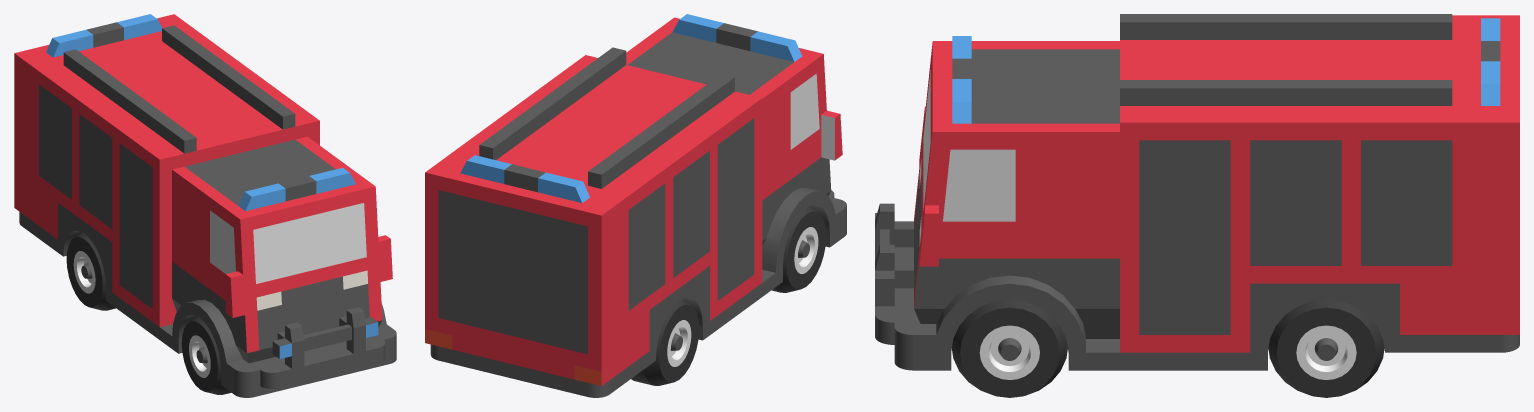
File: firetruck.fbx
3 views of the same model, side by side, from view 1: azimuth 30°, elevation 25°; view 2: azimuth 150°, elevation 25°; view 3: azimuth 270°, elevation 25° (orthographic). The views are drawn at different scales.
Parts seen in each view (by area): view 1: body, grill, wheel_frontRight, wheel_backRight; view 2: body, wheel_backRight, wheel_frontRight; view 3: body, wheel_backLeft, wheel_frontLeft, grill.
Boxes of the visible parts, left/top/right/bottom form: body: left=14, top=14, right=396, bottom=397; grill: left=260, top=307, right=385, bottom=388; wheel_frontRight: left=181, top=316, right=231, bottom=394; wheel_backRight: left=66, top=232, right=115, bottom=310; body: left=425, top=14, right=846, bottom=397; wheel_backRight: left=631, top=299, right=699, bottom=385; wheel_frontRight: left=771, top=206, right=826, bottom=292; body: left=894, top=14, right=1519, bottom=370; wheel_backLeft: left=1268, top=299, right=1384, bottom=397; wheel_frontLeft: left=952, top=299, right=1067, bottom=397; grill: left=875, top=203, right=913, bottom=344.
Size of the model in its own units: 13 by 17 by 33.
